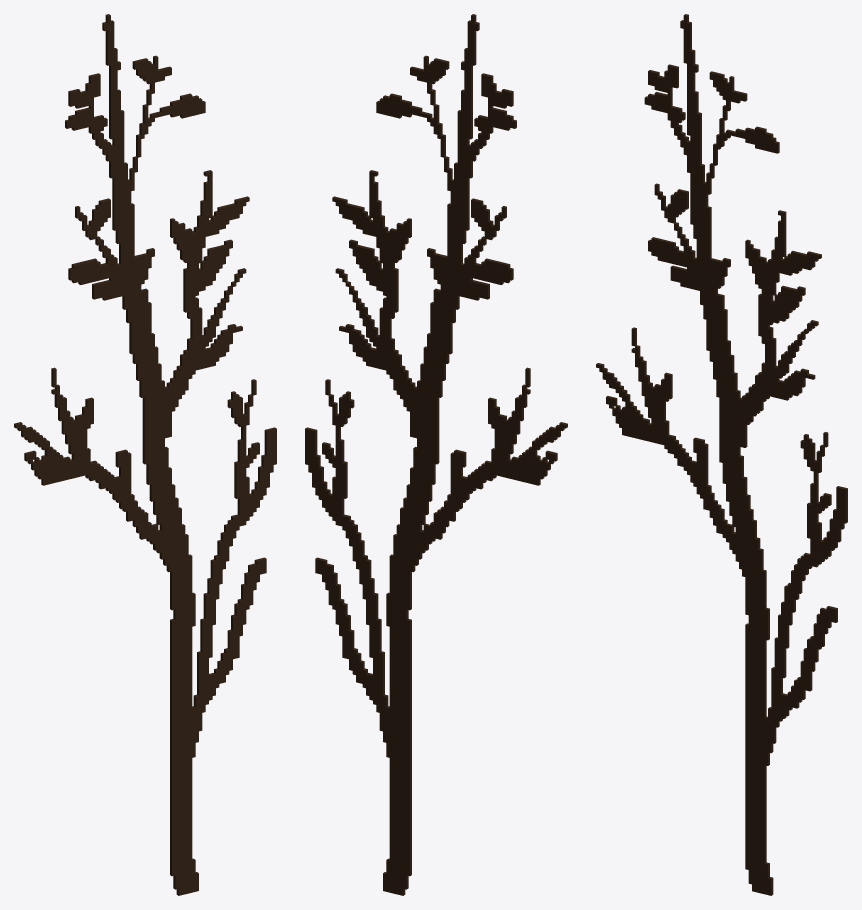
Rendered from forest1.1-167.obj.
3 renders of one model, left to right at view 1: azimuth 30°, elevation 25°; view 2: azimuth 150°, elevation 25°; view 3: azimuth 330°, elevation 25°, orthographic. The views are drawn at different scales.
Size of the model in its own units: 7.7 by 25.3 by 0.1.
1 material, 1 textured.
